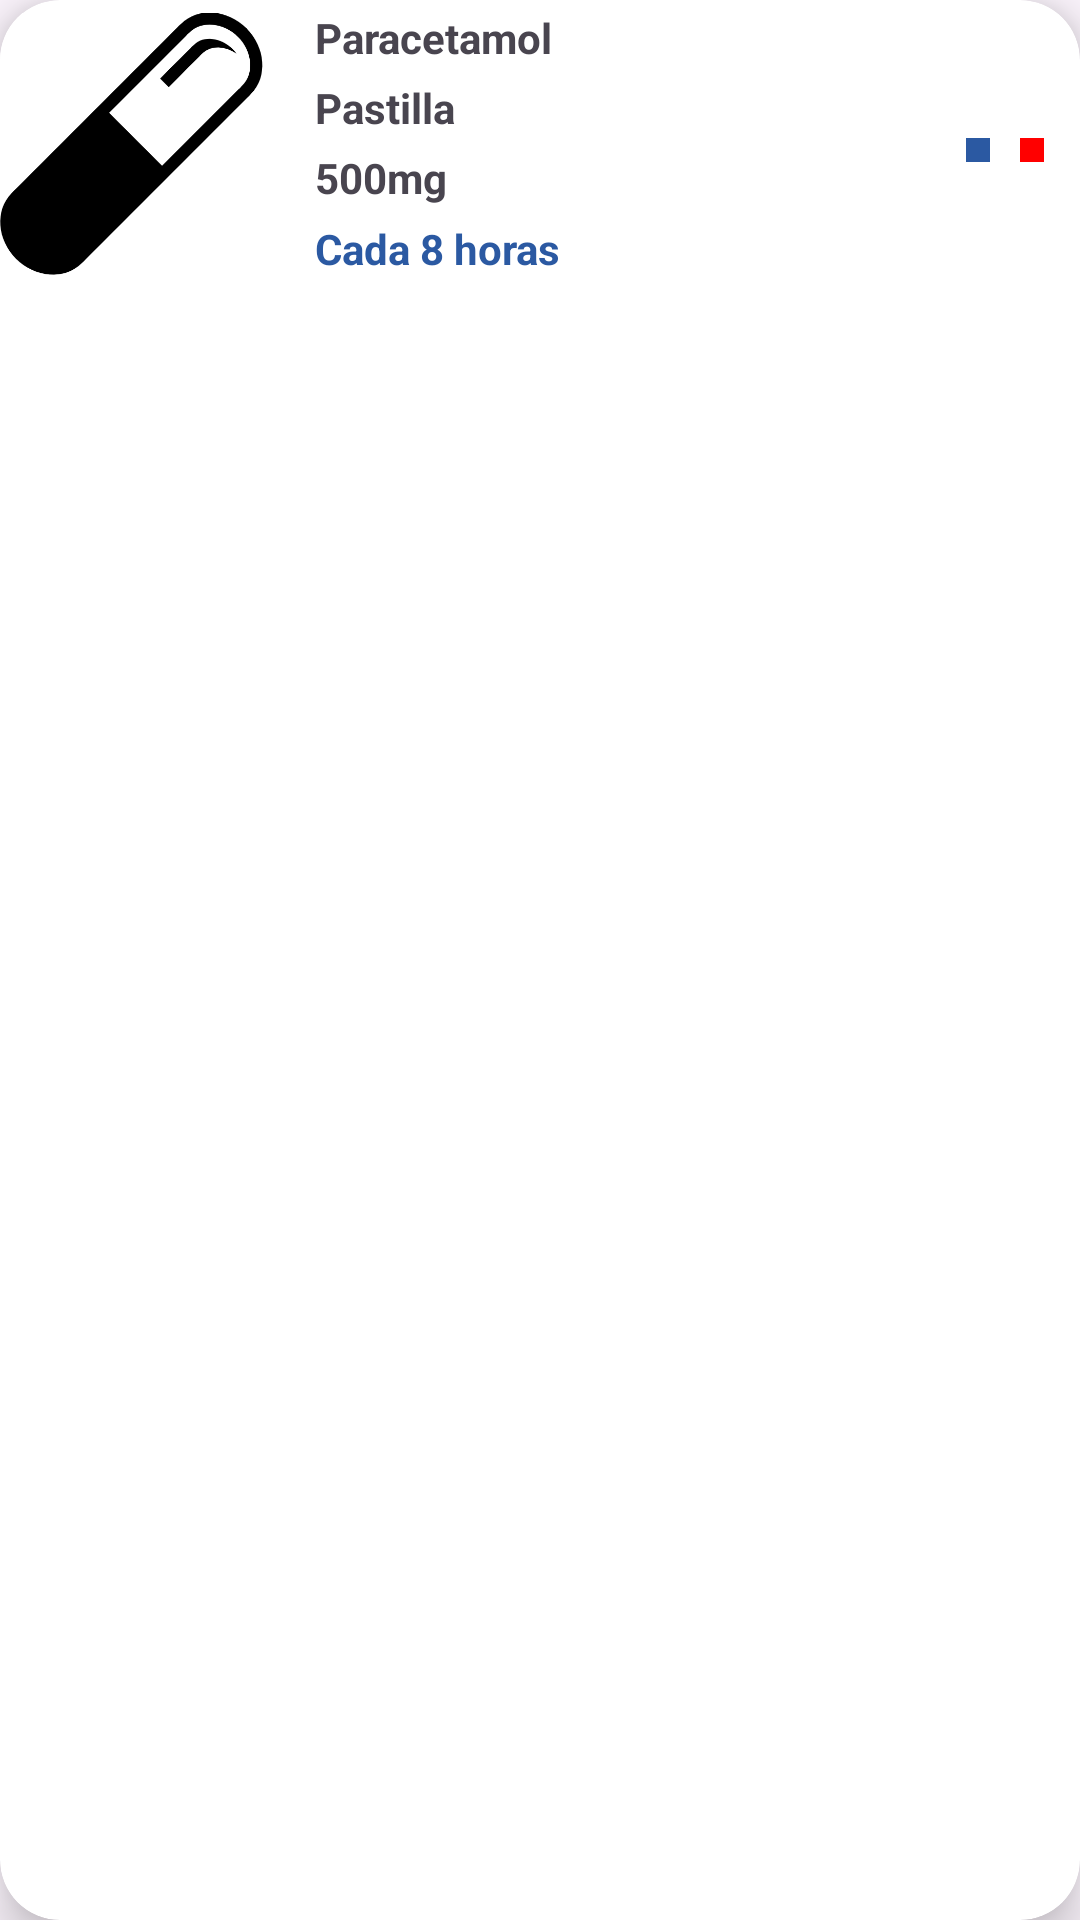

Where to tap for icons on this 1080w x 1920h app screen, as (x=x, y=y):
pills: (x=131, y=137)
